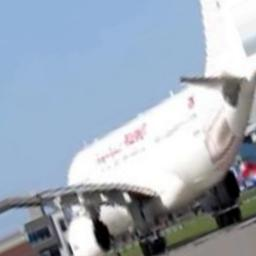Airplane: (30, 4, 254, 256)
